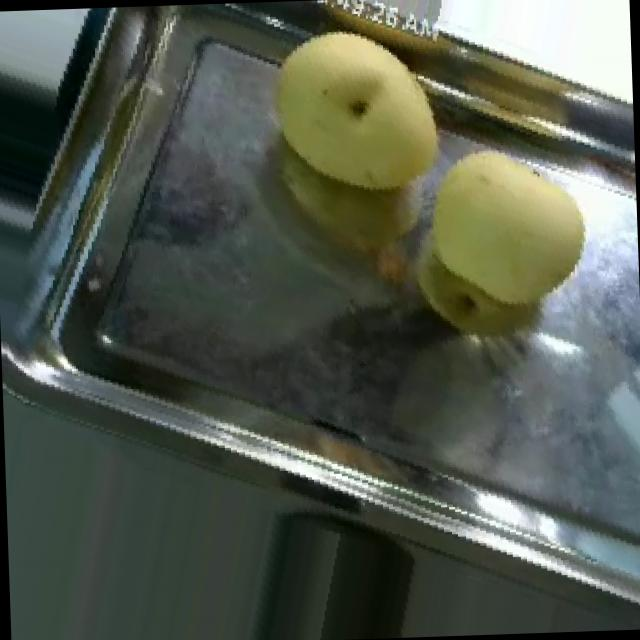Fruit: (236, 0, 474, 226), (388, 119, 614, 338)
